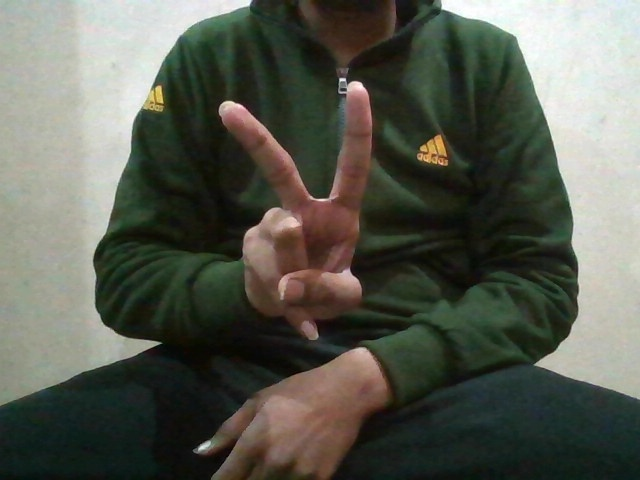V: (215, 91, 380, 335)
